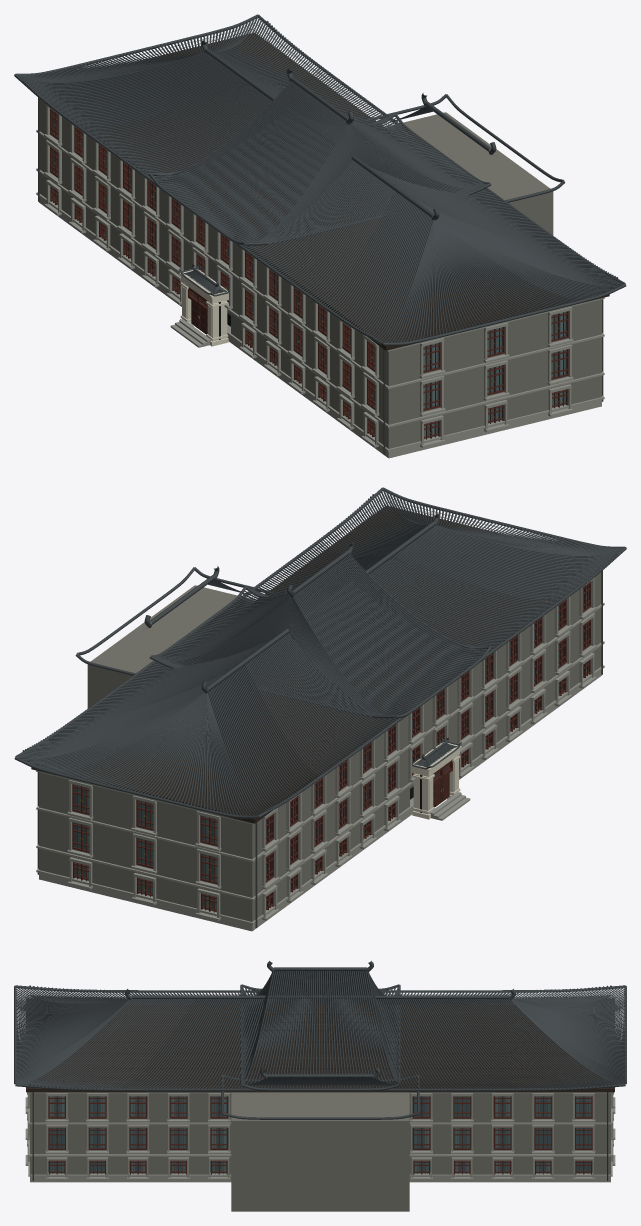
File: east.glb
3 renders of one model, top to bottom at view 1: azimuth 30°, elevation 25°; view 2: azimuth 150°, elevation 25°; view 3: azimuth 270°, elevation 25°, orthographic. The views are drawn at different scales.
Visible parts, largest first — view 1: roof-ribs, historic-brick, limestone, window-wood, redwood, roof, window-glass-warm, arts-limestone, window-glass, drainpipe, recess; view 2: roof-ribs, historic-brick, limestone, window-wood, redwood, roof, window-glass-warm, arts-limestone, window-glass, drainpipe, recess; view 3: roof-ribs, historic-brick, window-wood, limestone, redwood, roof, window-glass-warm, window-glass, recess, curtain-dark, window-glass-cool, curtain.
Boxes of the visible parts, x1=… form: roof-ribs: x1=14, y1=14, x2=626, y2=345; historic-brick: x1=39, y1=99, x2=601, y2=448; limestone: x1=36, y1=104, x2=604, y2=458; window-wood: x1=85, y1=32, x2=609, y2=350; redwood: x1=50, y1=108, x2=568, y2=439; roof: x1=47, y1=23, x2=584, y2=342; window-glass-warm: x1=52, y1=112, x2=566, y2=434; arts-limestone: x1=179, y1=269, x2=228, y2=346; window-glass: x1=52, y1=131, x2=438, y2=439; drainpipe: x1=38, y1=97, x2=603, y2=454; recess: x1=106, y1=170, x2=565, y2=435; roof-ribs: x1=14, y1=487, x2=626, y2=818; historic-brick: x1=39, y1=572, x2=601, y2=921; limestone: x1=36, y1=577, x2=604, y2=931; window-wood: x1=31, y1=505, x2=555, y2=823; redwood: x1=72, y1=581, x2=590, y2=912; roof: x1=59, y1=498, x2=593, y2=815; window-glass-warm: x1=74, y1=585, x2=588, y2=896; arts-limestone: x1=412, y1=742, x2=461, y2=819; window-glass: x1=202, y1=623, x2=588, y2=912; drainpipe: x1=37, y1=570, x2=602, y2=927; recess: x1=75, y1=643, x2=534, y2=908; roof-ribs: x1=14, y1=961, x2=626, y2=1119; historic-brick: x1=30, y1=1092, x2=610, y2=1211; window-wood: x1=26, y1=1004, x2=614, y2=1092; limestone: x1=25, y1=1087, x2=615, y2=1182; redwood: x1=48, y1=1096, x2=592, y2=1174; roof: x1=21, y1=971, x2=619, y2=1087; window-glass-warm: x1=49, y1=1096, x2=591, y2=1173; window-glass: x1=49, y1=1096, x2=590, y2=1173; recess: x1=48, y1=1096, x2=592, y2=1172; curtain-dark: x1=51, y1=1099, x2=590, y2=1170; window-glass-cool: x1=131, y1=1096, x2=469, y2=1173; curtain: x1=50, y1=1099, x2=549, y2=1170.
Size of the model in its own units: 28.39 by 18.11 by 56.34.
